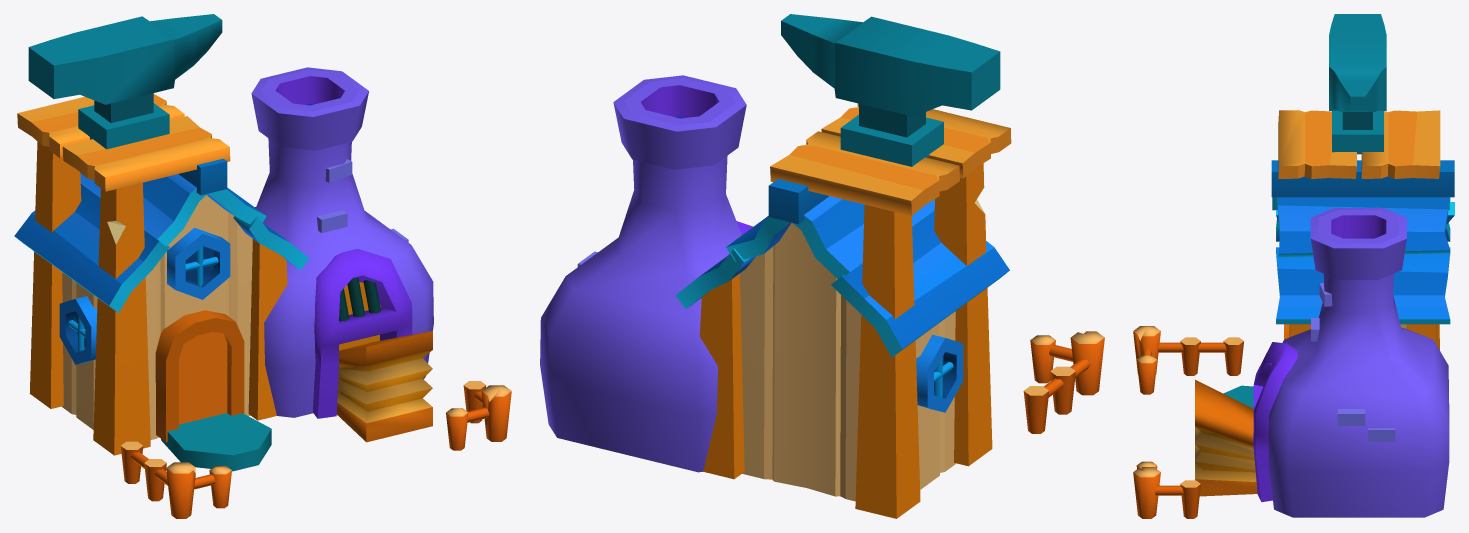
File: Structure_Blacksmith_lvl01.fbx
The picture shows the model from 3 angles, left to right: view 1: azimuth 30°, elevation 25°; view 2: azimuth 150°, elevation 25°; view 3: azimuth 270°, elevation 25°; orthographic projection. The views are drawn at different scales.
Visible parts, largest first — view 1: Structure_Blacksmith_lvl01; view 2: Structure_Blacksmith_lvl01; view 3: Structure_Blacksmith_lvl01.
Boxes of the visible parts, <box> form: Structure_Blacksmith_lvl01: <box>14,14,511,518</box>; Structure_Blacksmith_lvl01: <box>540,14,1104,518</box>; Structure_Blacksmith_lvl01: <box>1133,14,1454,518</box>.
Size of the model in its own units: 822 by 843 by 701.
